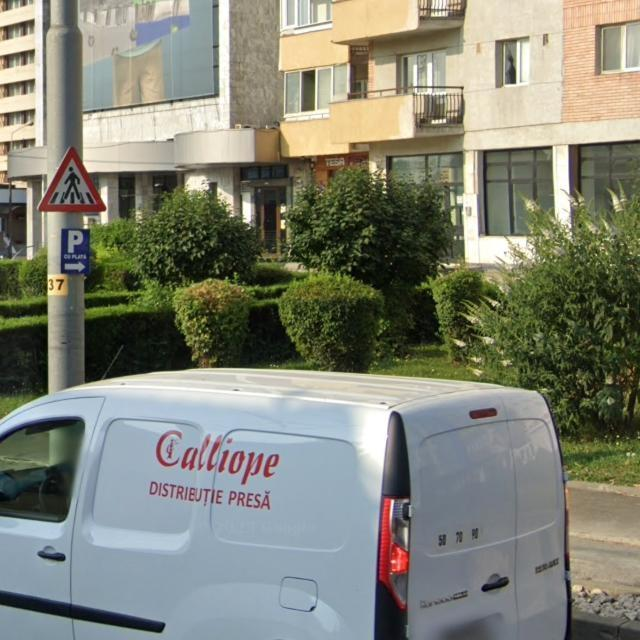warn_crosswalk: (37, 145, 108, 215)
